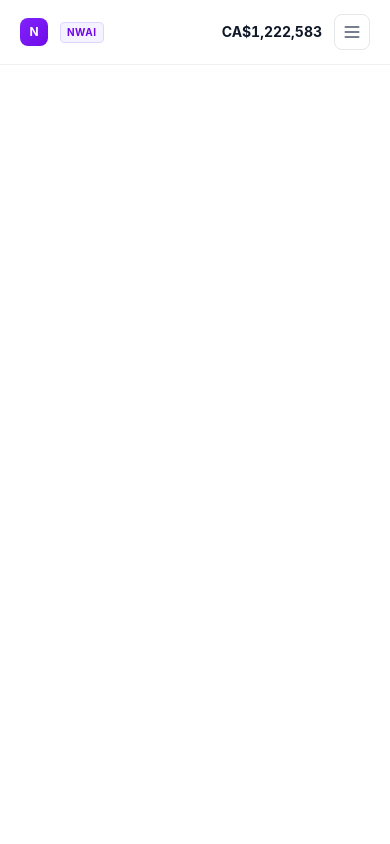
Test: MvpTopNav phone header and drawer › puts Cash Flow first in the cash-flow group and highlights only /account/cash-flow
Click the button named "Menu" at (352, 32), box [334,14,370,50]
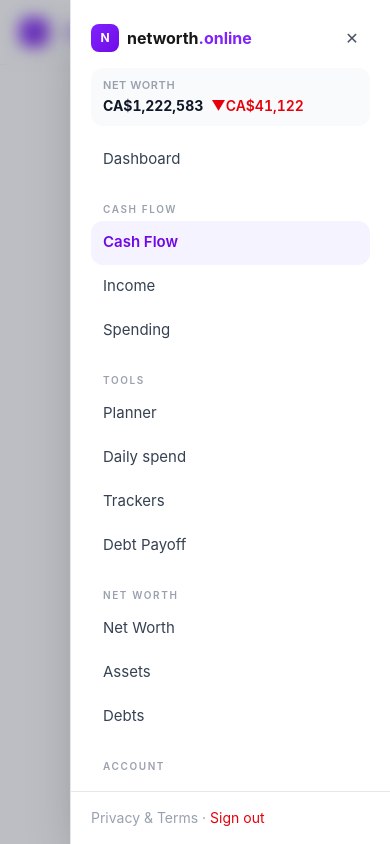
Expected: the link "Cash Flow" is shown, [91,221,370,265]
